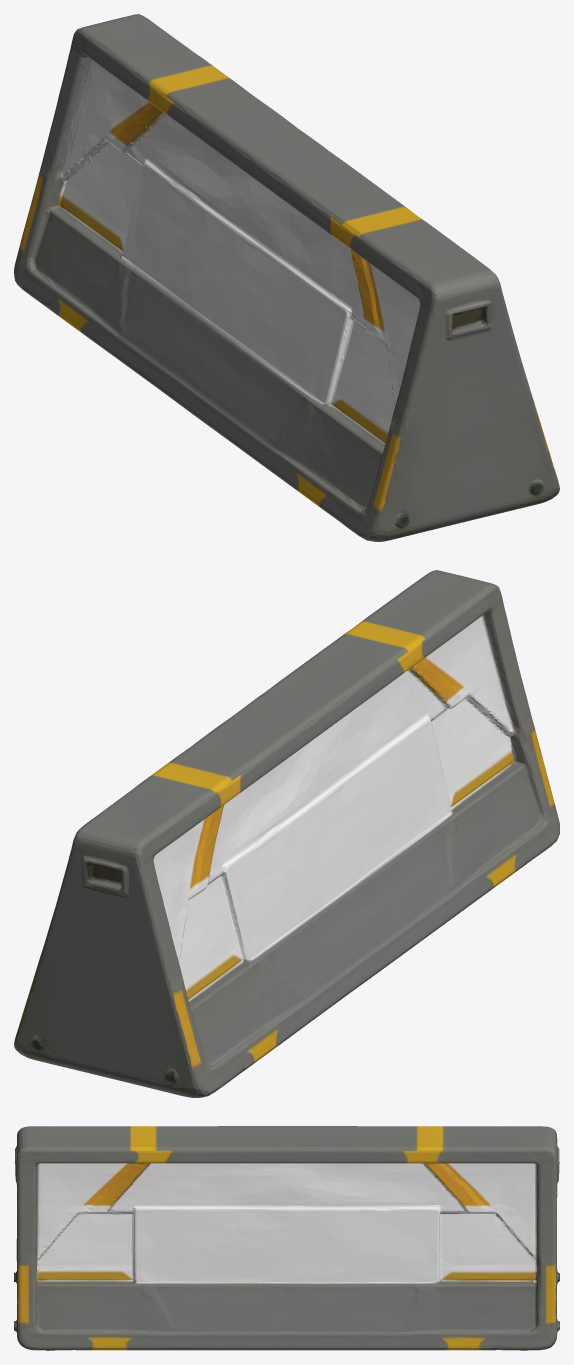
The model's file is bunker.glb.
The picture shows the model from 3 angles, top to bottom: view 1: azimuth 30°, elevation 25°; view 2: azimuth 150°, elevation 25°; view 3: azimuth 270°, elevation 25°; orthographic projection. The views are drawn at different scales.
Visible parts, largest first — view 1: tmpq3i030m5.ply; view 2: tmpq3i030m5.ply; view 3: tmpq3i030m5.ply.
Boxes of the visible parts, <box> form: tmpq3i030m5.ply: <box>14,14,559,541</box>; tmpq3i030m5.ply: <box>14,570,559,1097</box>; tmpq3i030m5.ply: <box>14,1126,559,1350</box>.
Size of the model in its own units: 0.3076 by 0.3722 by 1.
1 material, 1 textured.
